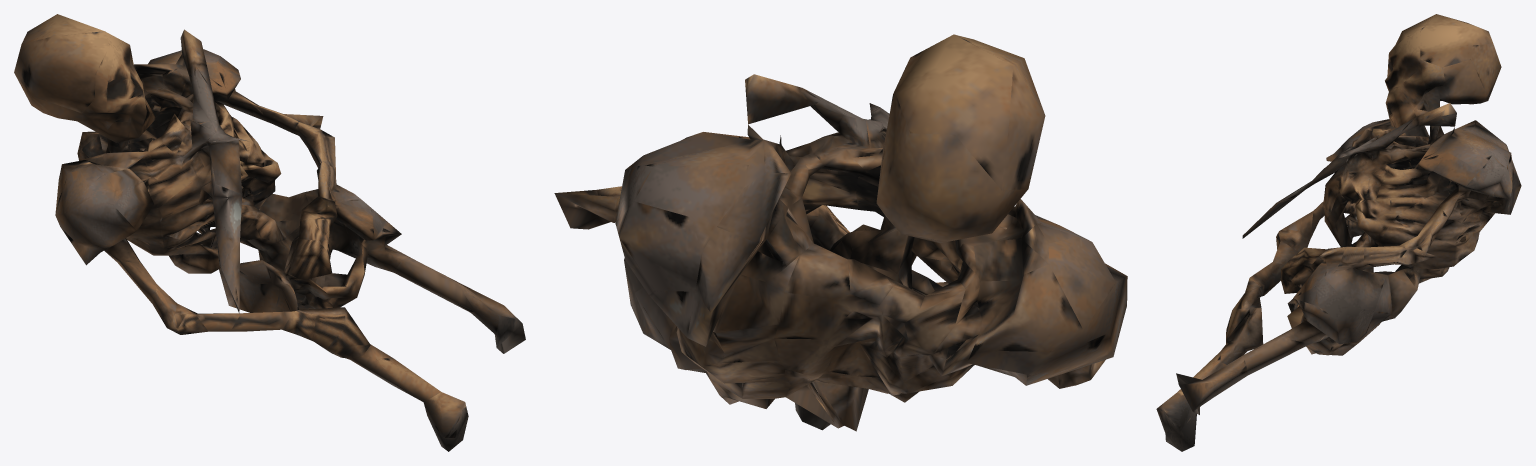
File: skeletal_remains_clutching.glb
3 renders of one model, left to right at view 1: azimuth 30°, elevation 25°; view 2: azimuth 150°, elevation 25°; view 3: azimuth 270°, elevation 25°, orthographic. The views are drawn at different scales.
Size of the model in its own units: 1.99 by 1.97 by 1.99.
Materials: 1 (1 with a texture image).
